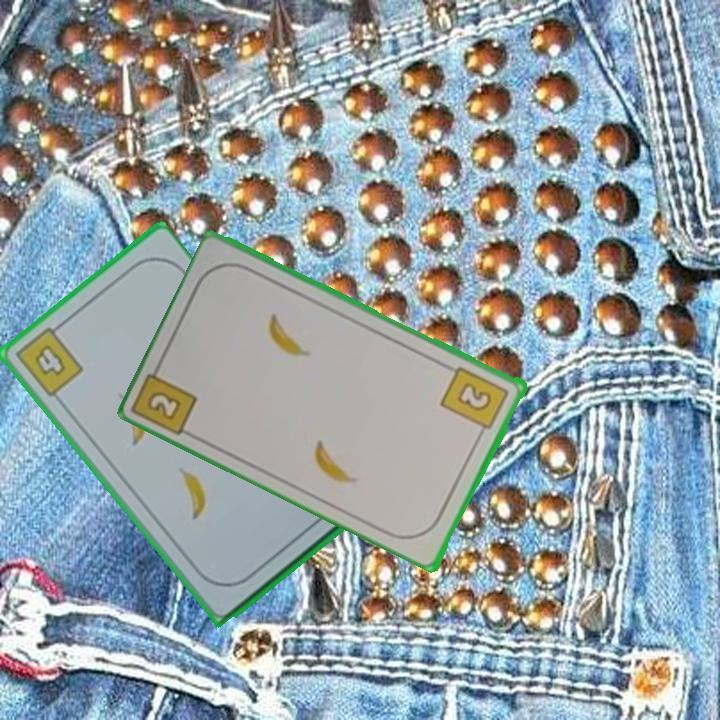2b: (438, 362, 513, 440), (143, 387, 185, 423)
4b: (11, 319, 87, 400)
